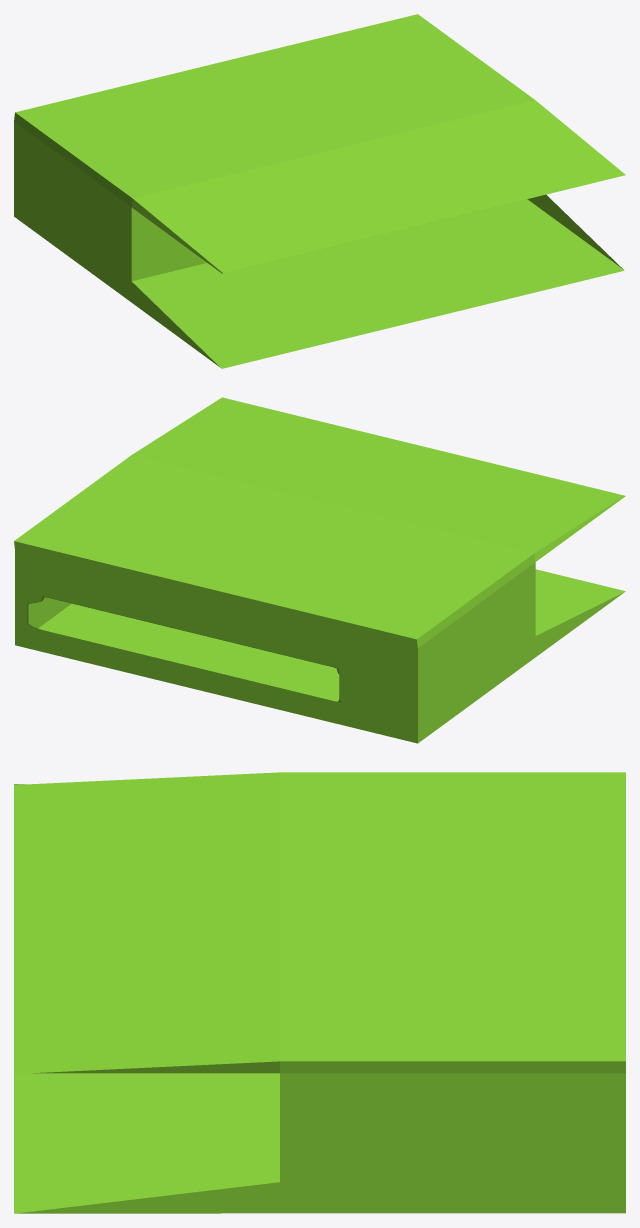
The model's file is top_section.obj.
3 views of the same model, one above another, from view 1: azimuth 30°, elevation 25°; view 2: azimuth 150°, elevation 25°; view 3: azimuth 270°, elevation 25° (orthographic). The views are drawn at different scales.
Visible parts, largest first — view 1: black_wall.009; view 2: black_wall.009; view 3: black_wall.009.
Part boxes in pixels (x1=…): black_wall.009: x1=14, y1=14, x2=625, y2=368; black_wall.009: x1=14, y1=397, x2=625, y2=743; black_wall.009: x1=14, y1=772, x2=625, y2=1213.
Size of the model in its own units: 39.72 by 9.78 by 35.45.
1 material, 1 textured.
